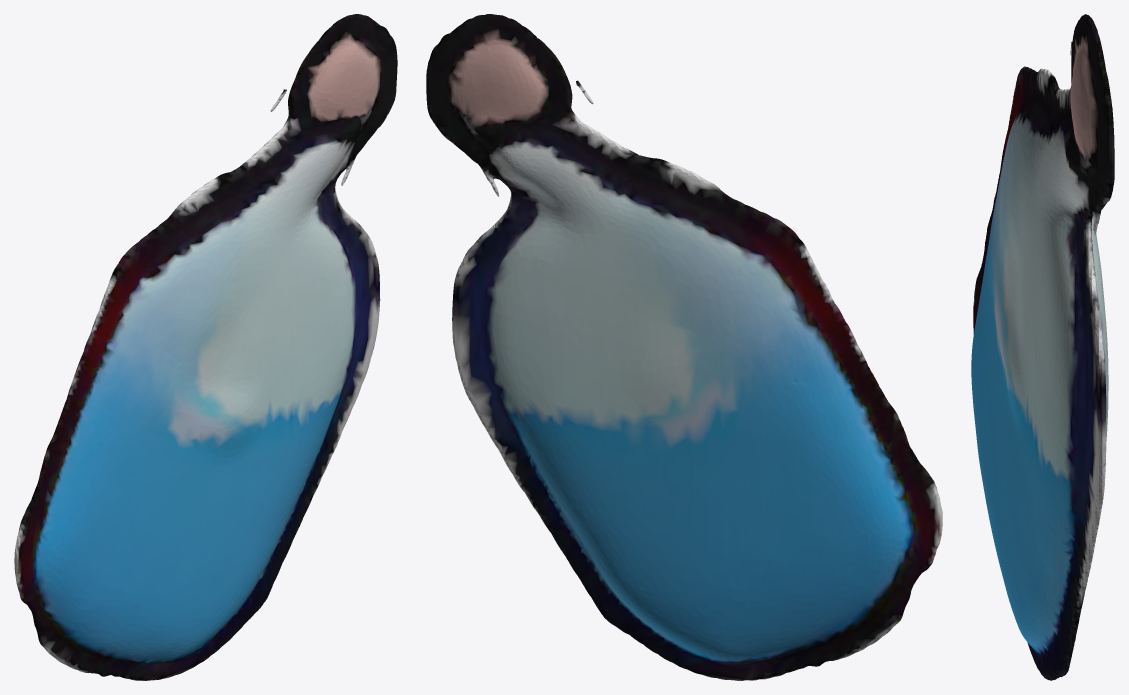
File: water.glb
The picture shows the model from 3 angles, left to right: view 1: azimuth 30°, elevation 25°; view 2: azimuth 150°, elevation 25°; view 3: azimuth 270°, elevation 25°; orthographic projection. The views are drawn at different scales.
Visible parts, largest first — view 1: geometry_0; view 2: geometry_0; view 3: geometry_0.
Part boxes in pixels (<box>): geometry_0: <box>14,14,397,680</box>; geometry_0: <box>426,14,942,680</box>; geometry_0: <box>971,14,1114,680</box>.
Size of the model in its own units: 0.4375 by 0.5731 by 0.0973.
